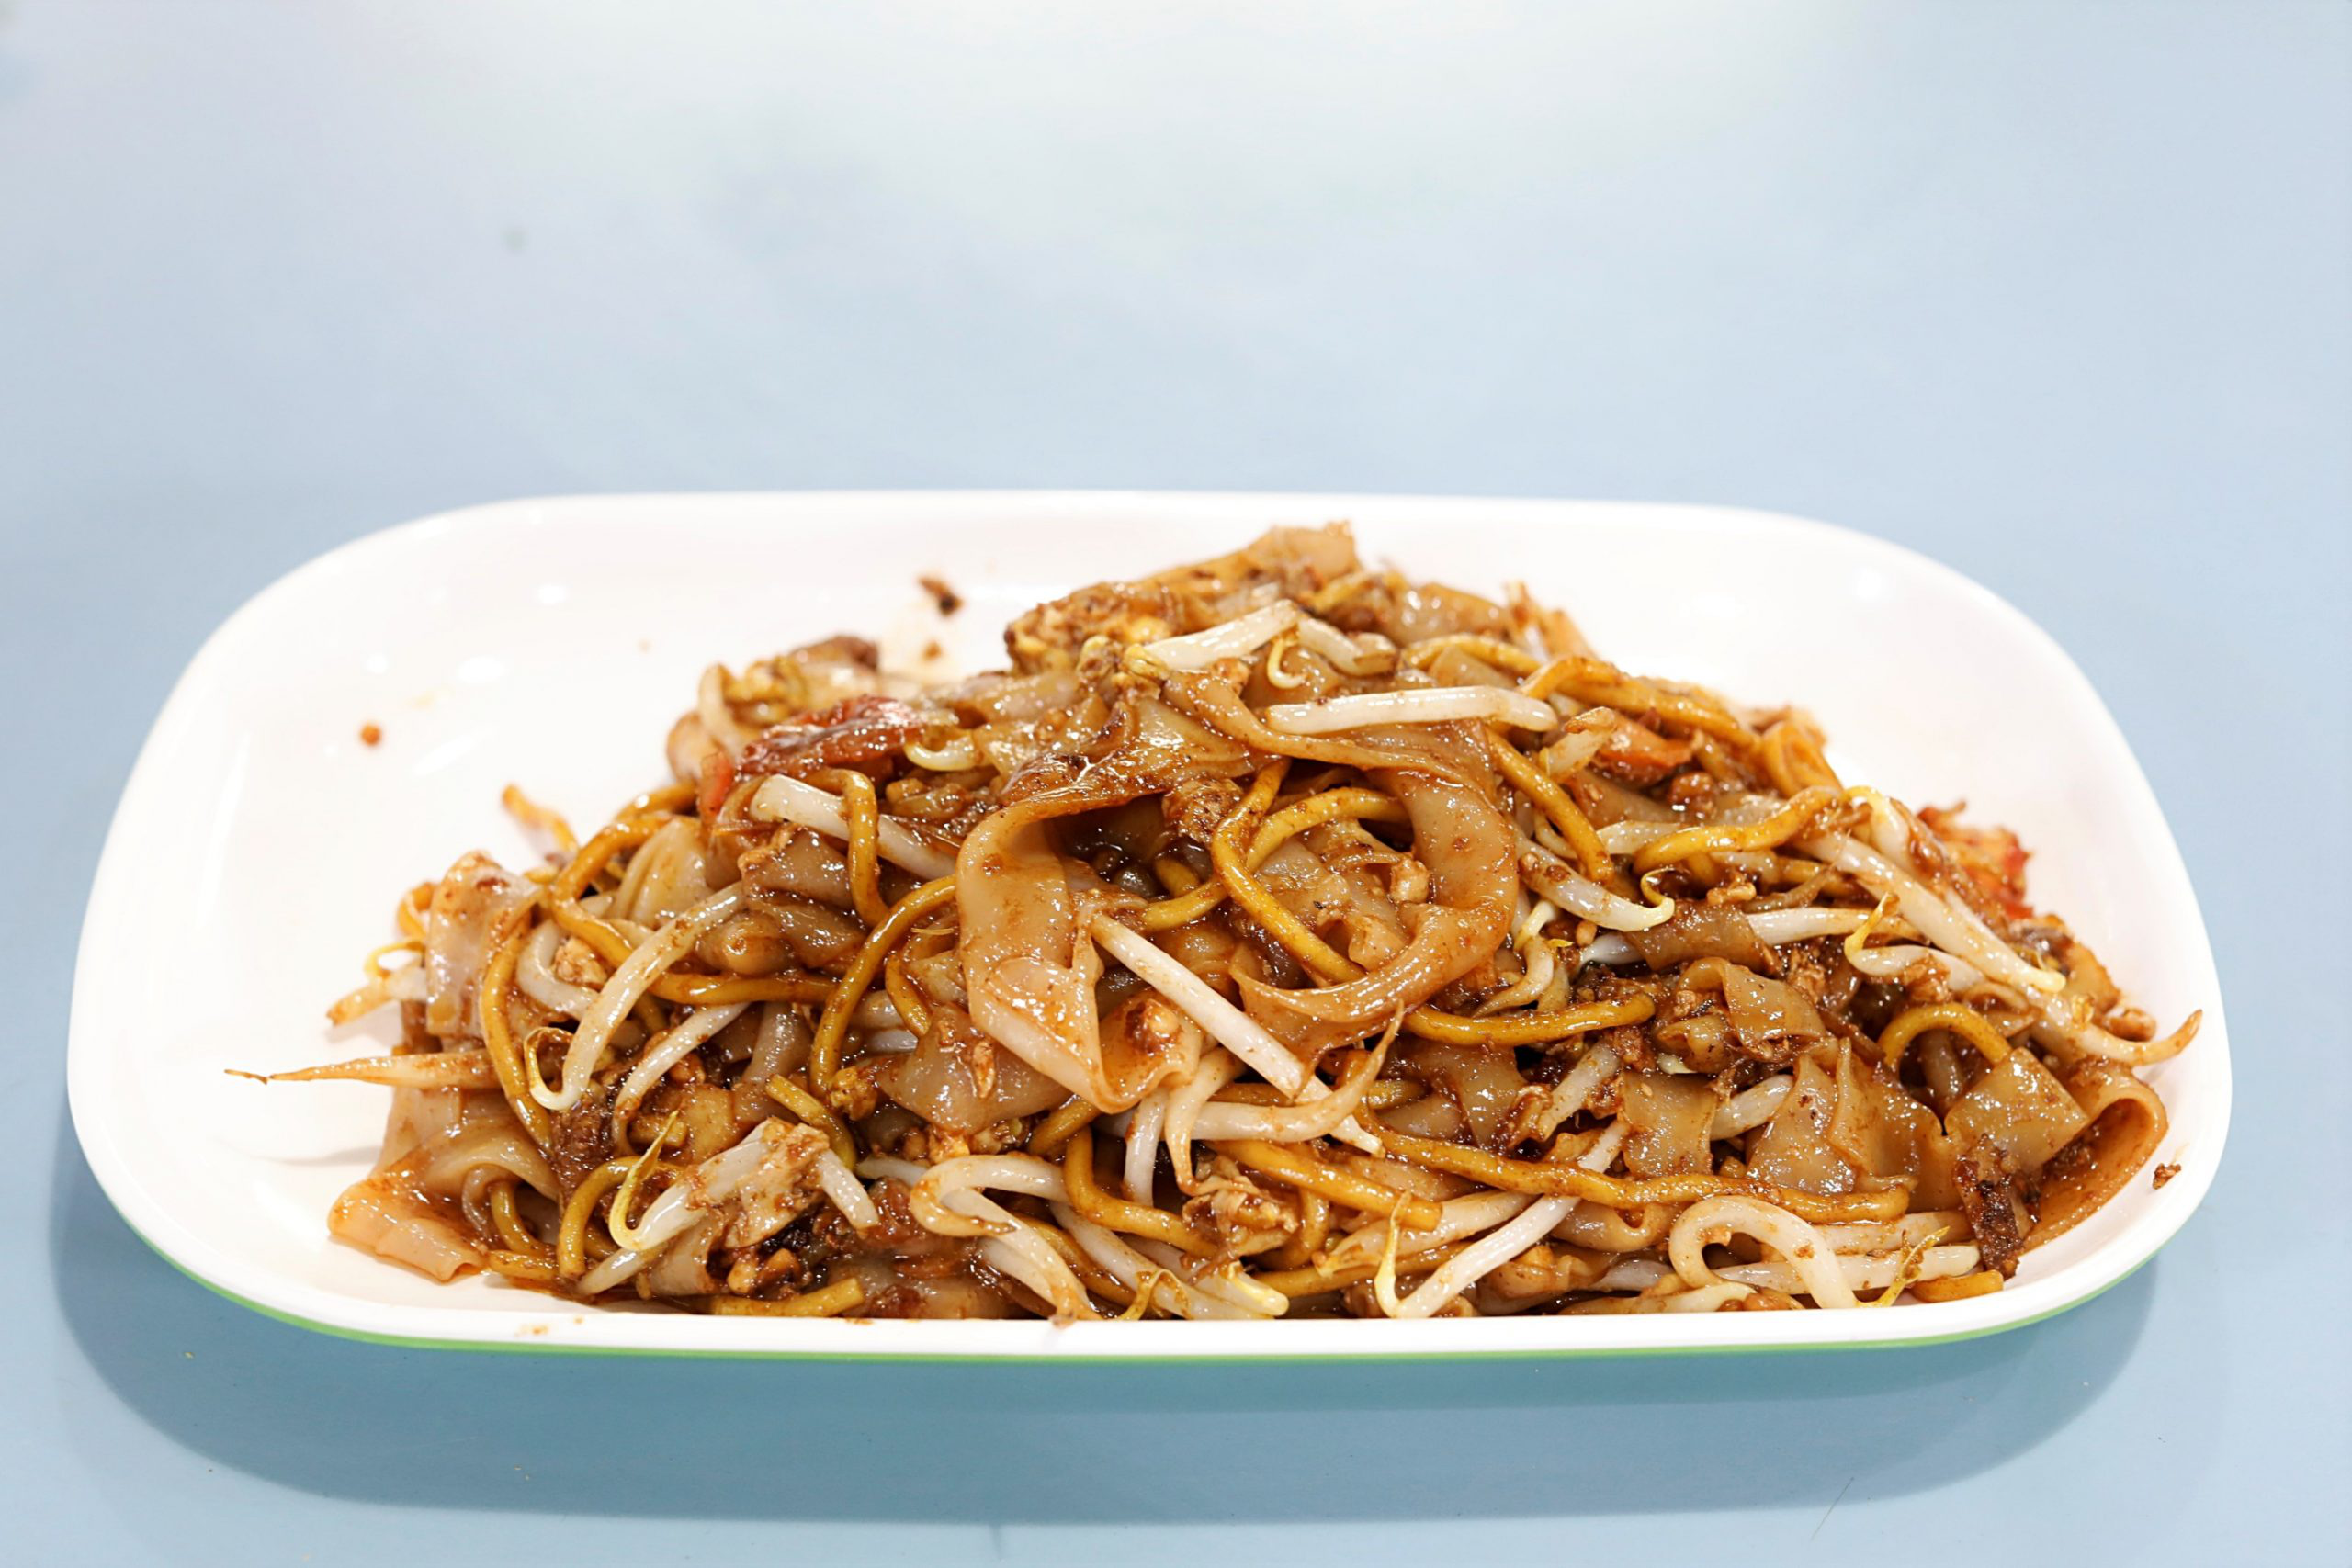Char Kway Teow: (401, 499, 2172, 1375)
